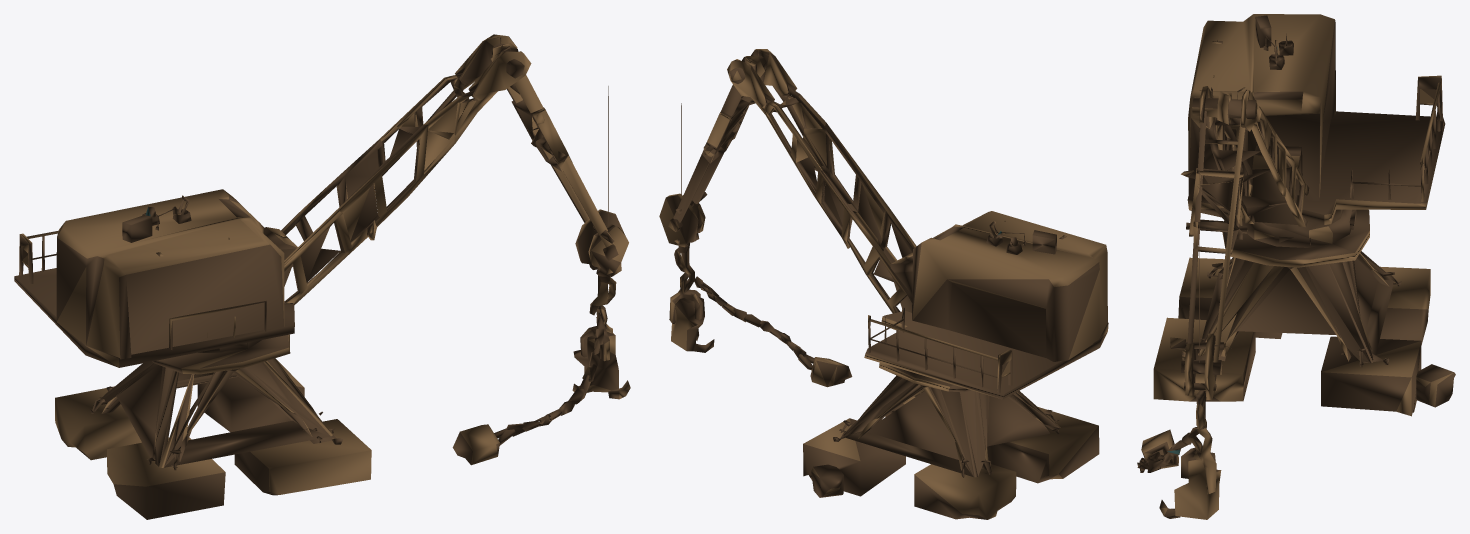
File: boom_crane_wreck_a_lod1_tripo.glb
3 views of the same model, side by side, from view 1: azimuth 30°, elevation 25°; view 2: azimuth 150°, elevation 25°; view 3: azimuth 270°, elevation 25° (orthographic). The views are drawn at different scales.
Parts seen in each view (by area): view 1: Surface.001; view 2: Surface.001; view 3: Surface.001.
Boxes of the visible parts, x1,y1,x2,y2 form: Surface.001: [14, 34, 630, 519]; Surface.001: [659, 49, 1108, 519]; Surface.001: [1137, 14, 1455, 519].
Bounding box in the file's own units: 6.53 × 4.75 × 3.27.
